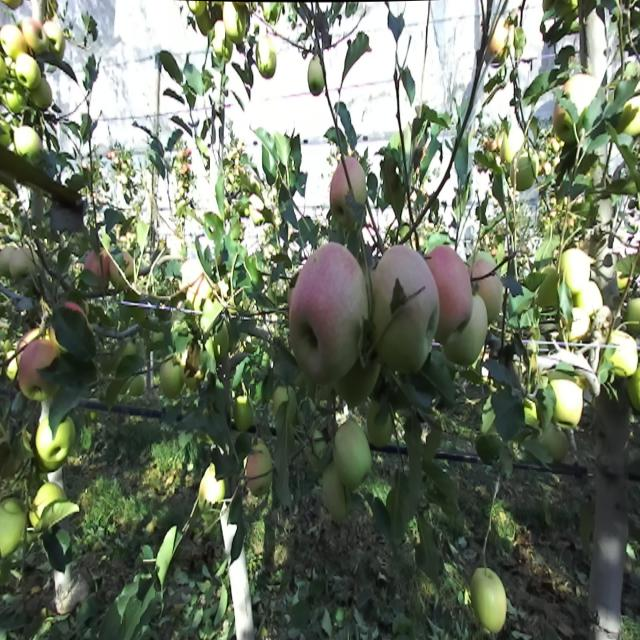apple: (289, 241, 368, 377), (372, 245, 439, 371), (428, 247, 471, 334), (447, 292, 487, 366), (553, 70, 598, 130), (470, 565, 507, 634), (333, 419, 372, 484), (17, 341, 57, 404), (549, 366, 585, 429), (329, 160, 366, 218), (36, 417, 75, 462), (472, 258, 503, 314), (607, 328, 638, 378), (30, 483, 65, 526), (0, 496, 26, 552), (246, 444, 272, 495), (562, 246, 594, 287), (324, 470, 351, 518), (485, 17, 509, 68), (510, 146, 539, 188), (369, 400, 391, 451), (21, 16, 48, 55), (223, 0, 246, 42), (83, 248, 109, 284), (160, 356, 183, 396), (574, 282, 602, 314), (13, 127, 41, 158), (14, 54, 39, 88), (542, 428, 568, 460), (200, 470, 223, 506), (214, 19, 232, 60), (44, 22, 66, 55), (307, 54, 325, 94), (274, 384, 296, 416), (256, 36, 274, 75), (33, 76, 53, 110), (0, 27, 24, 55), (4, 81, 24, 113), (235, 395, 252, 428), (187, 0, 207, 18), (0, 119, 12, 145), (198, 16, 211, 36)
